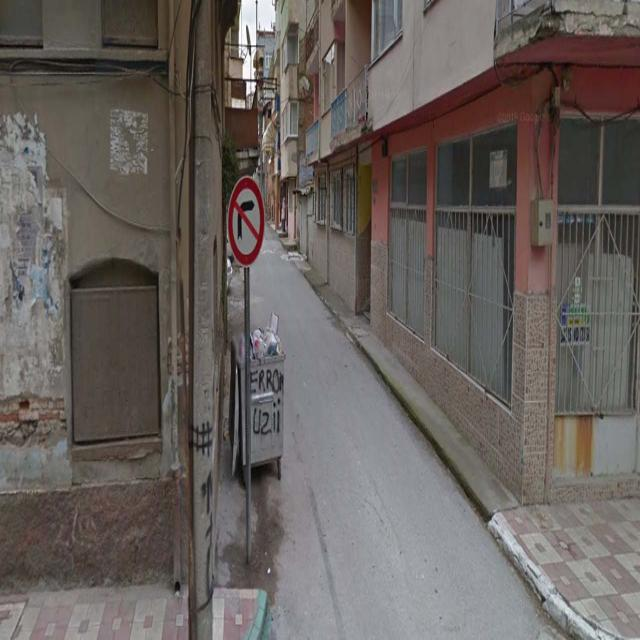sagadonulmez: (228, 176, 265, 264)
